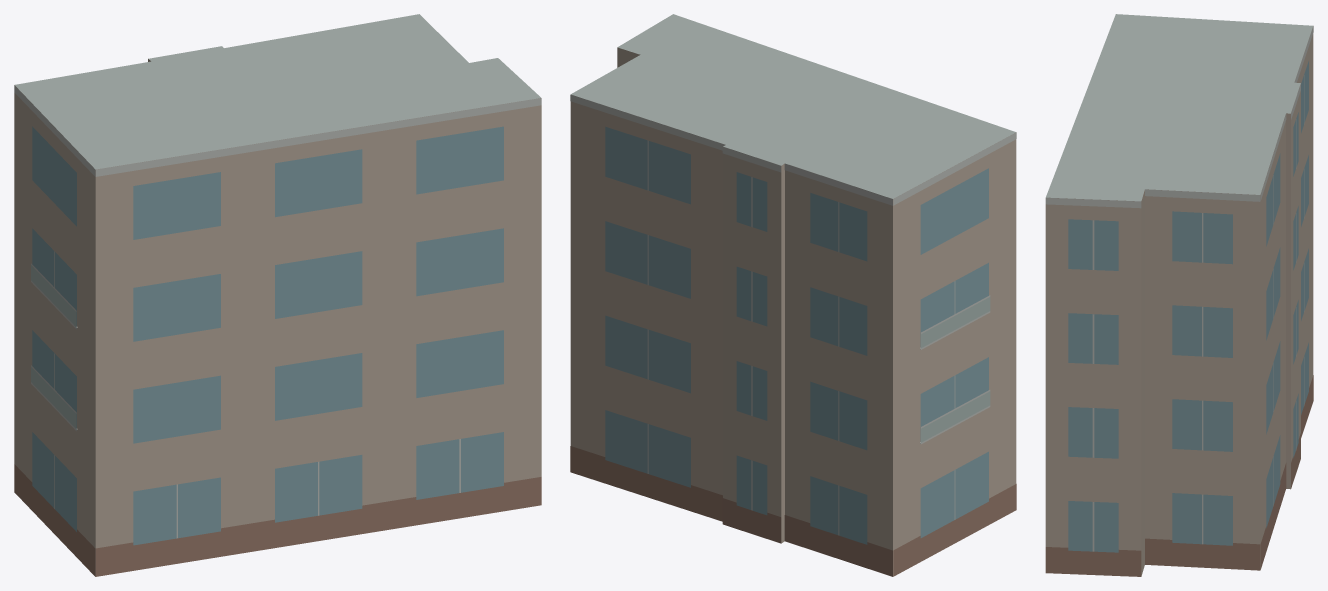
Rendered from survey-upis-32464438.glb.
3 views of the same model, side by side, from view 1: azimuth 30°, elevation 25°; view 2: azimuth 150°, elevation 25°; view 3: azimuth 270°, elevation 25° (orthographic). The views are drawn at different scales.
Parts seen in each view (by area): view 1: survey-upis-32464438.tmp; view 2: survey-upis-32464438.tmp; view 3: survey-upis-32464438.tmp.
Part boxes in pixels (<box>): survey-upis-32464438.tmp: <box>14,14,541,576</box>; survey-upis-32464438.tmp: <box>570,14,1016,576</box>; survey-upis-32464438.tmp: <box>1045,14,1313,576</box>.
Bounding box in the file's own units: 14.35 × 13.4 × 8.67.
